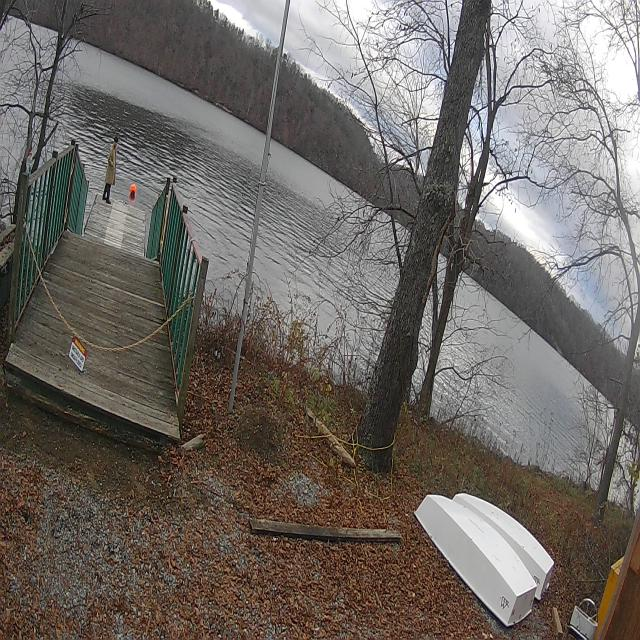Buoy: (127, 179, 140, 203)
